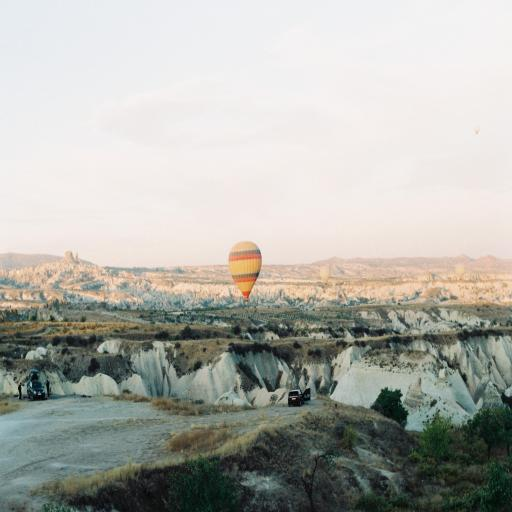hot air ballon: (225, 235, 264, 315)
